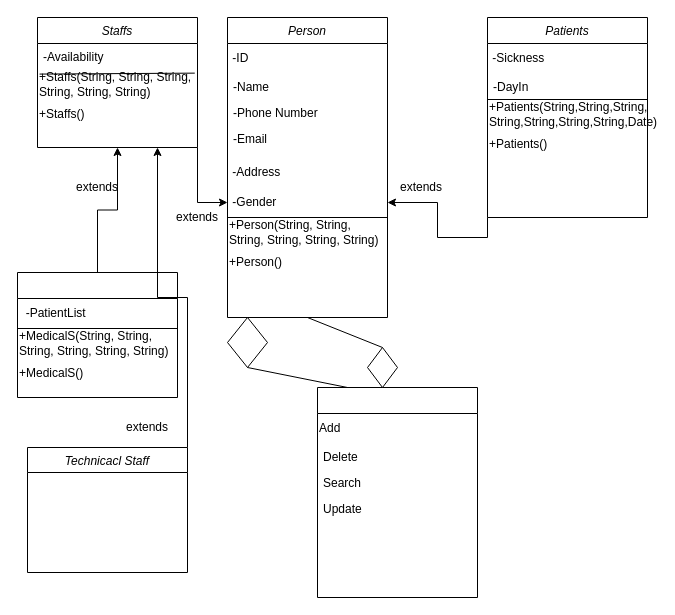
Image size: 675x615. Some labels were removed from this diagram. Each missing label, with the box of its shape:
Hospital System: (316, 386, 478, 598)
Medical Staff: (16, 272, 178, 398)
